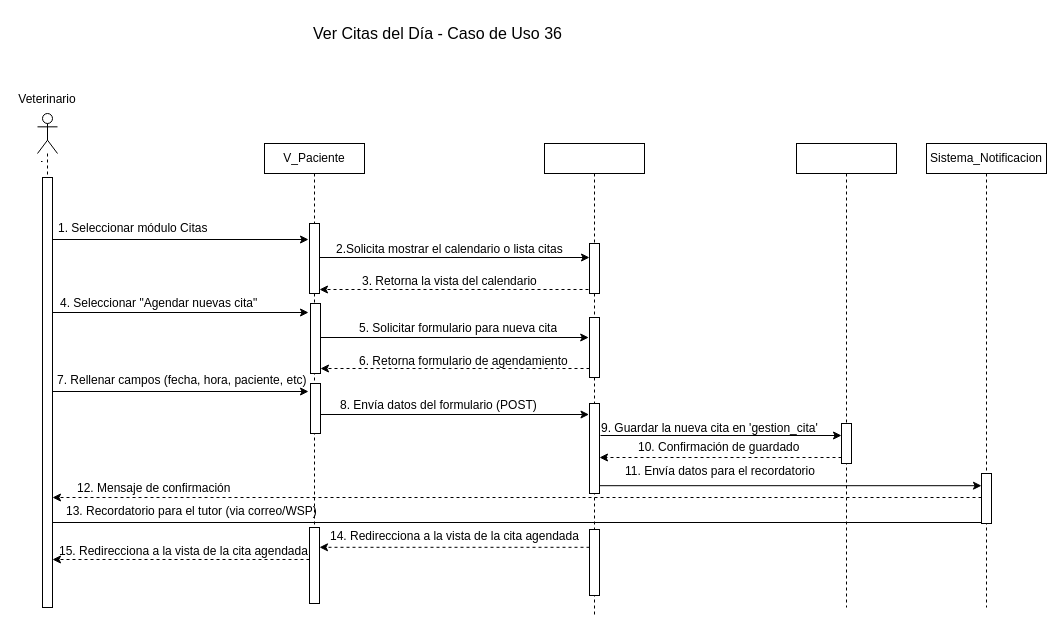
The diagram is 1064 pixels wide and 635 high, and some of its shapes have lost their labels. Each missing label, with the box of its shape:
BD_Gestion: (796, 142, 896, 608)
C_Cita: (544, 142, 644, 618)
